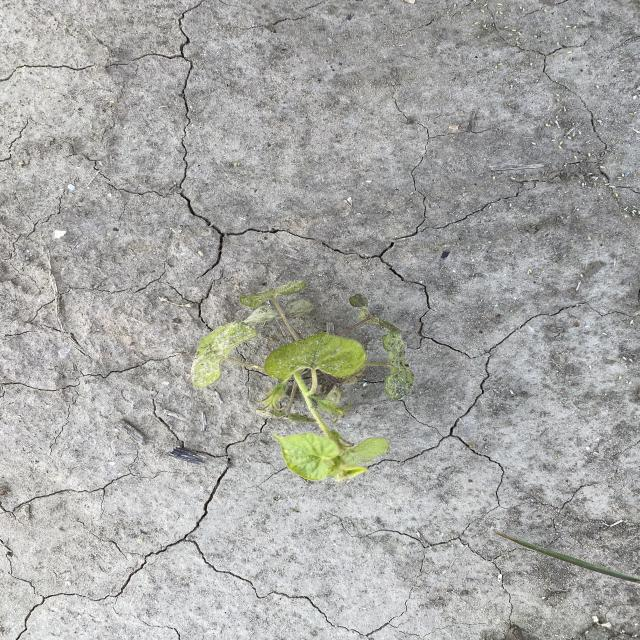MorningGlory: (187, 278, 418, 485)
